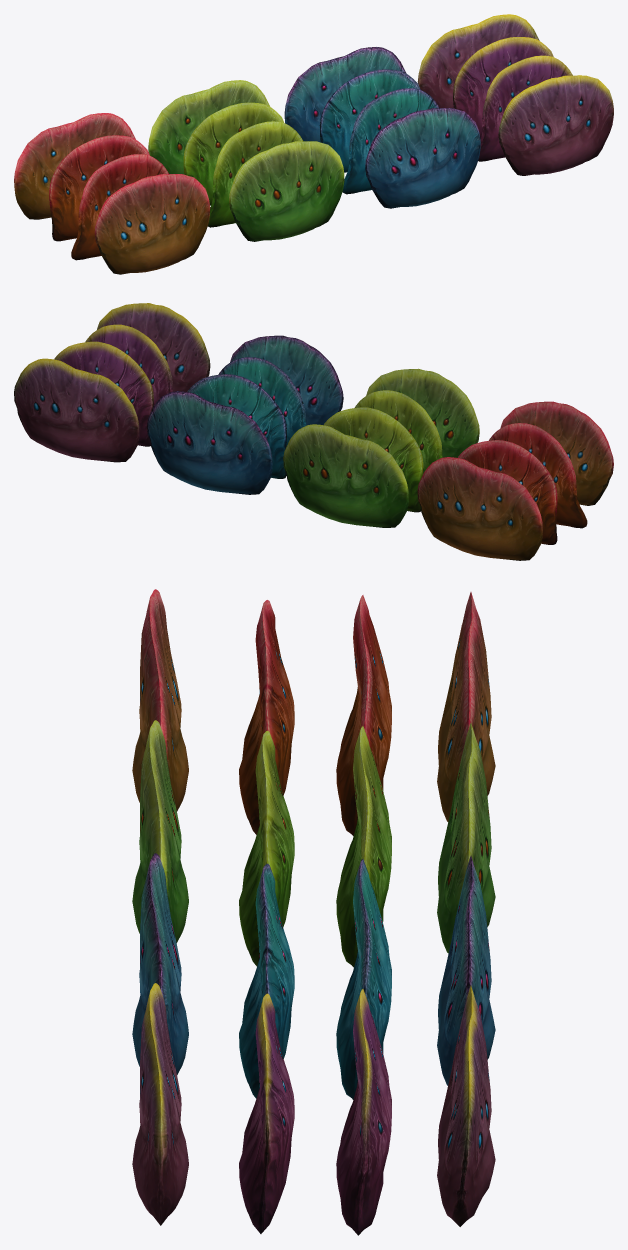
Rendered from jeweled disk.fbx.
The picture shows the model from 3 angles, top to bottom: view 1: azimuth 30°, elevation 25°; view 2: azimuth 150°, elevation 25°; view 3: azimuth 270°, elevation 25°; orthographic projection. The views are drawn at different scales.
Visible parts, largest first — view 1: Coral_reef_jeweled_disk_01_01.001, Coral_reef_jeweled_disk_01_01.003, Coral_reef_jeweled_disk_01_01.002, Coral_reef_jeweled_disk_01_01, Coral_reef_jeweled_disk_01_04, Coral_reef_jeweled_disk_01_04.002, Coral_reef_jeweled_disk_01_04.001, Coral_reef_jeweled_disk_01_04.003, Coral_reef_jeweled_disk_01_03, Coral_reef_jeweled_disk_01_03.002, Coral_reef_jeweled_disk_01_03.001, Coral_reef_jeweled_disk_01_03.003 (+4 smaller); view 2: Coral_reef_jeweled_disk_01_04.001, Coral_reef_jeweled_disk_01_04.003, Coral_reef_jeweled_disk_01_04.002, Coral_reef_jeweled_disk_01_04, Coral_reef_jeweled_disk_01_01, Coral_reef_jeweled_disk_01_01.002, Coral_reef_jeweled_disk_01_01.001, Coral_reef_jeweled_disk_01_01.003, Coral_reef_jeweled_disk_01_03, Coral_reef_jeweled_disk_01_03.002, Coral_reef_jeweled_disk_01_03.001, Coral_reef_jeweled_disk_01_03.003 (+4 smaller); view 3: Coral_reef_jeweled_disk_01_04.003, Coral_reef_jeweled_disk_01_01.003, Coral_reef_jeweled_disk_01_03.003, Coral_reef_jeweled_disk_01_02.003, Coral_reef_jeweled_disk_01_04.001, Coral_reef_jeweled_disk_01_04, Coral_reef_jeweled_disk_01_04.002, Coral_reef_jeweled_disk_01_03.001, Coral_reef_jeweled_disk_01_03, Coral_reef_jeweled_disk_01_01.001, Coral_reef_jeweled_disk_01_03.002, Coral_reef_jeweled_disk_01_01 (+4 smaller).
Part boxes in pixels (x1,y1,x2,y2): Coral_reef_jeweled_disk_01_01.001: (229,141,344,241); Coral_reef_jeweled_disk_01_01.003: (498,75,613,175); Coral_reef_jeweled_disk_01_01.002: (365,108,480,208); Coral_reef_jeweled_disk_01_01: (94,174,210,274); Coral_reef_jeweled_disk_01_04: (14,113,135,219); Coral_reef_jeweled_disk_01_04.002: (284,47,406,142); Coral_reef_jeweled_disk_01_04.001: (148,80,269,174); Coral_reef_jeweled_disk_01_04.003: (417,14,539,107); Coral_reef_jeweled_disk_01_03: (49,135,149,241); Coral_reef_jeweled_disk_01_03.002: (319,69,420,172); Coral_reef_jeweled_disk_01_03.001: (183,102,283,205); Coral_reef_jeweled_disk_01_03.003: (453,37,553,139); Coral_reef_jeweled_disk_01_04.001: (283,424,408,527); Coral_reef_jeweled_disk_01_04.003: (14,358,139,462); Coral_reef_jeweled_disk_01_04.002: (147,391,272,494); Coral_reef_jeweled_disk_01_04: (417,457,542,560); Coral_reef_jeweled_disk_01_01: (500,401,613,505); Coral_reef_jeweled_disk_01_01.002: (230,335,343,425); Coral_reef_jeweled_disk_01_01.001: (366,368,479,457); Coral_reef_jeweled_disk_01_01.003: (97,303,210,391); Coral_reef_jeweled_disk_01_03: (458,440,557,544); Coral_reef_jeweled_disk_01_03.002: (187,374,286,478); Coral_reef_jeweled_disk_01_03.001: (324,407,423,512); Coral_reef_jeweled_disk_01_03.003: (54,341,153,446); Coral_reef_jeweled_disk_01_04.003: (437,985,495,1226); Coral_reef_jeweled_disk_01_01.003: (132,983,188,1225); Coral_reef_jeweled_disk_01_03.003: (336,989,391,1235); Coral_reef_jeweled_disk_01_02.003: (239,993,294,1233); Coral_reef_jeweled_disk_01_04.001: (437,723,495,953); Coral_reef_jeweled_disk_01_04: (437,592,495,821); Coral_reef_jeweled_disk_01_04.002: (437,855,495,1085); Coral_reef_jeweled_disk_01_03.001: (336,726,391,967); Coral_reef_jeweled_disk_01_03: (336,595,391,835); Coral_reef_jeweled_disk_01_01.001: (132,720,188,942); Coral_reef_jeweled_disk_01_03.002: (336,859,391,1099); Coral_reef_jeweled_disk_01_01: (132,589,188,811).
Size of the model in its own units: 4.72 by 0.8188 by 1.4.
4 materials, 4 textured.
